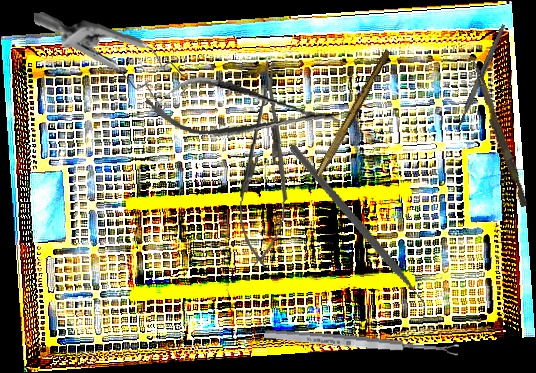Chopper: (251, 144, 463, 323)
Micro Scissor: (142, 70, 344, 152)
Needle Holder: (236, 58, 295, 268)
Pusher: (466, 59, 532, 208)
Scalpel Handle: (315, 47, 392, 180), (455, 23, 507, 130)
Speculum: (34, 7, 191, 120)
Surgical Spoon: (263, 327, 460, 358)
